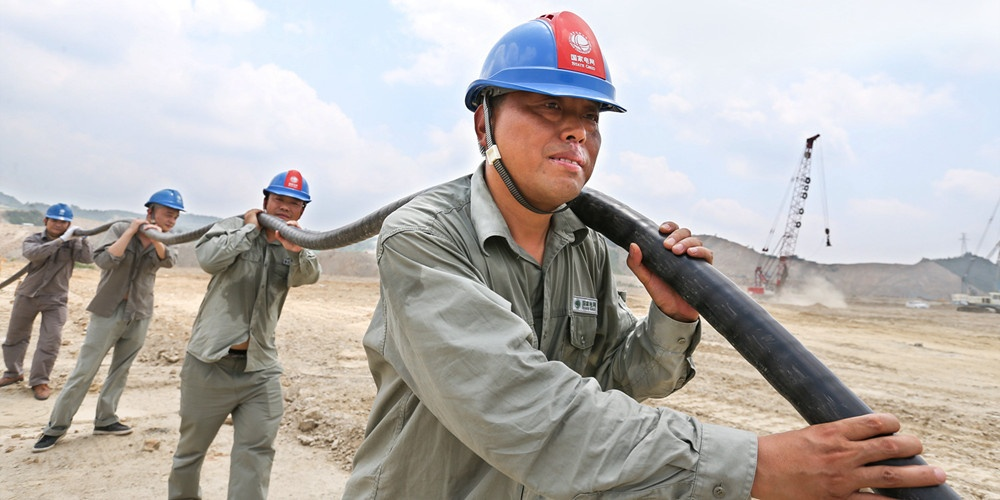blue: (469, 14, 618, 209), (264, 171, 311, 225), (146, 188, 182, 232), (42, 203, 72, 238)
